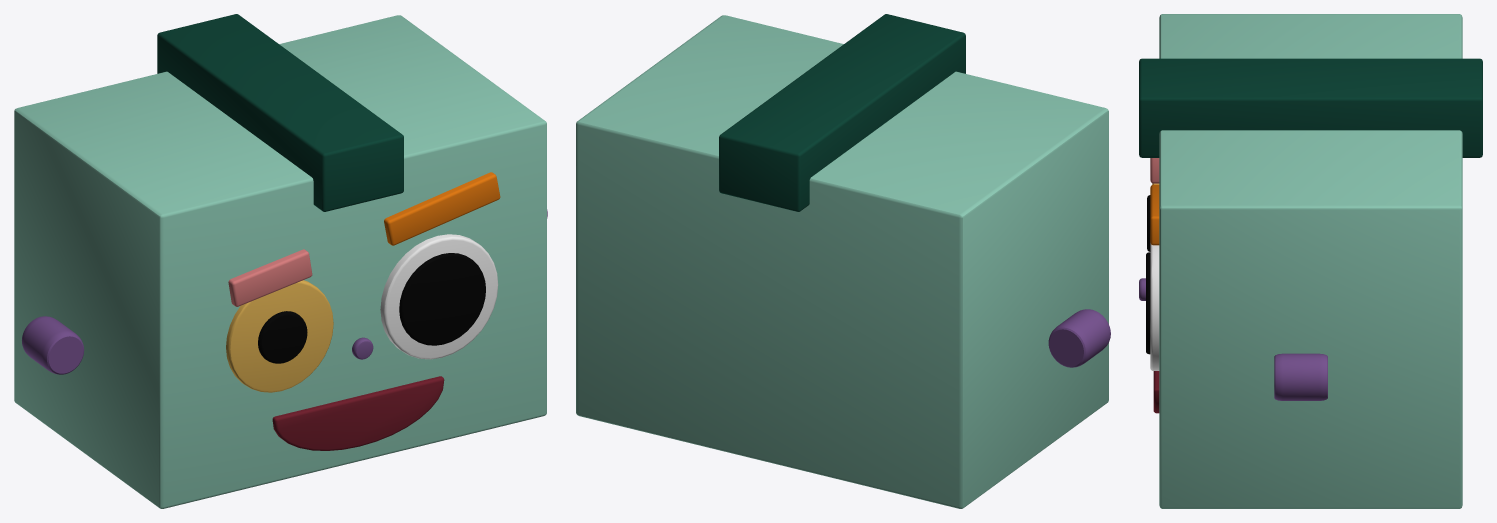
File: sail-o-bots #329.glb
3 views of the same model, side by side, from view 1: azimuth 30°, elevation 25°; view 2: azimuth 150°, elevation 25°; view 3: azimuth 270°, elevation 25° (orthographic). The views are drawn at different scales.
Parts seen in each view (by area): view 1: Head, Mohawk, Mouth, Eye R, Pupl L, Eye L, Eyebrow L, Hand R, Eyebrow R, Pupil R; view 2: Head, Mohawk, Hand R; view 3: Head, Mohawk, Hand L, Eye L, Eyebrow L, Pupl L.
Boxes of the visible parts, x1,y1,x2,y2 form: Head: [14, 15, 546, 508]; Mohawk: [157, 14, 403, 211]; Mouth: [272, 376, 444, 450]; Eye R: [226, 280, 333, 392]; Pupl L: [399, 253, 485, 345]; Eye L: [380, 234, 498, 359]; Eyebrow L: [384, 172, 500, 245]; Hand R: [22, 316, 84, 374]; Eyebrow R: [228, 249, 312, 306]; Pupil R: [258, 311, 307, 363]; Head: [576, 15, 1108, 508]; Mohawk: [719, 14, 965, 211]; Hand R: [1048, 309, 1110, 367]; Head: [1159, 14, 1462, 508]; Mohawk: [1139, 58, 1482, 157]; Hand L: [1274, 353, 1327, 400]; Eye L: [1150, 243, 1159, 370]; Eyebrow L: [1150, 184, 1159, 245]; Pupl L: [1146, 252, 1150, 354].
Size of the model in its own units: 3.94 by 2.44 by 2.27.
Materials: 10 (10 with a texture image).
